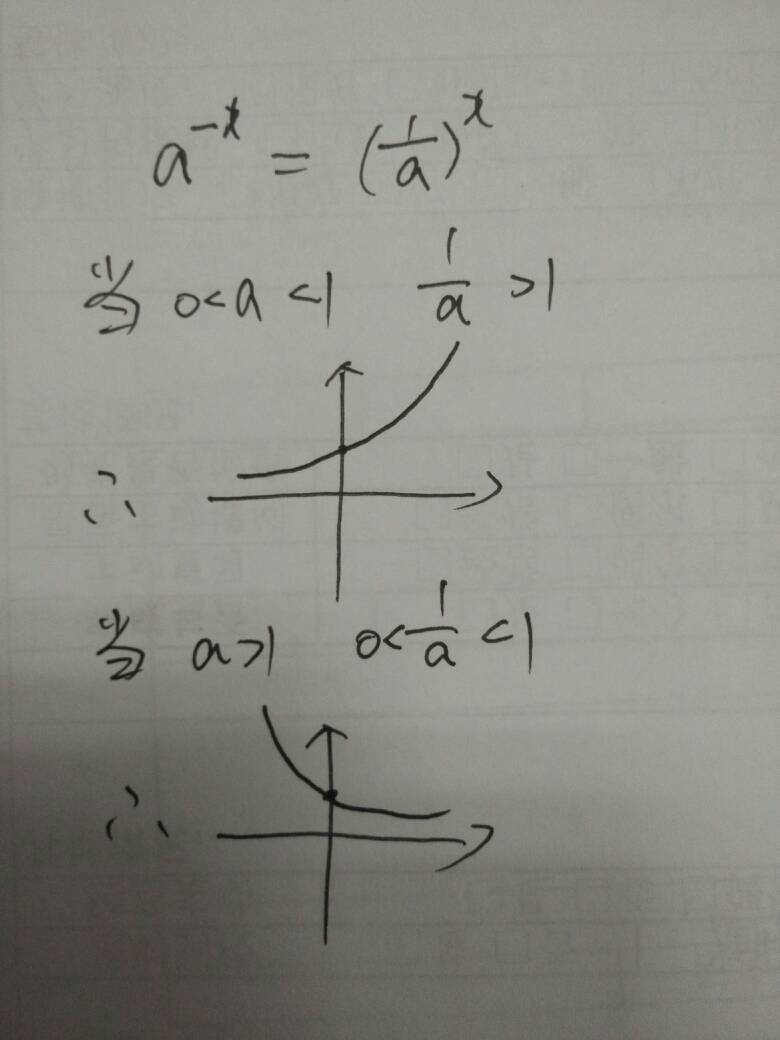division: (398, 613, 470, 643), (374, 129, 443, 158), (407, 274, 476, 292)
